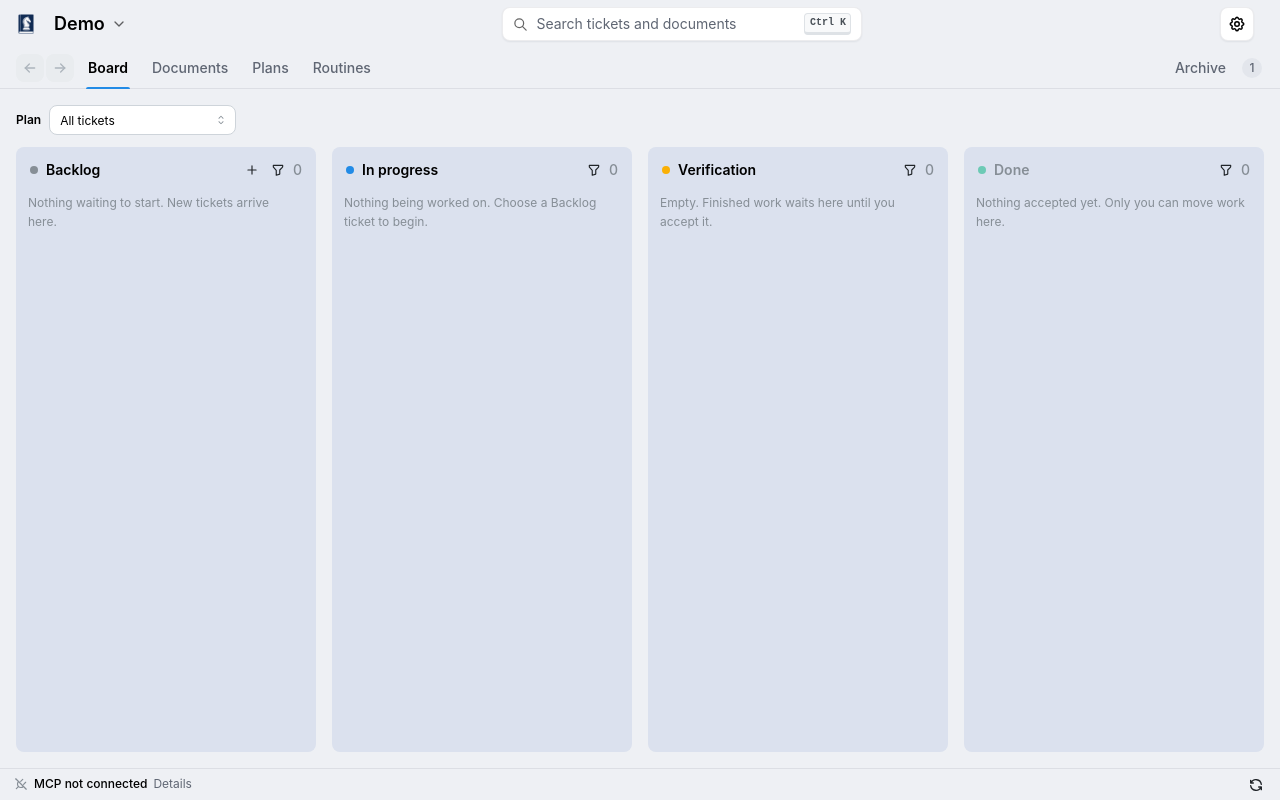
the Archive tab › shows the status each ticket kept, because archiving decided nothing
Expected: the text "Demo" is shown, x1=54 y1=12 x2=105 y2=36
Click the tab "Archive 1". click: (1218, 68)
box: x1=1173 y1=48 x2=1264 y2=88
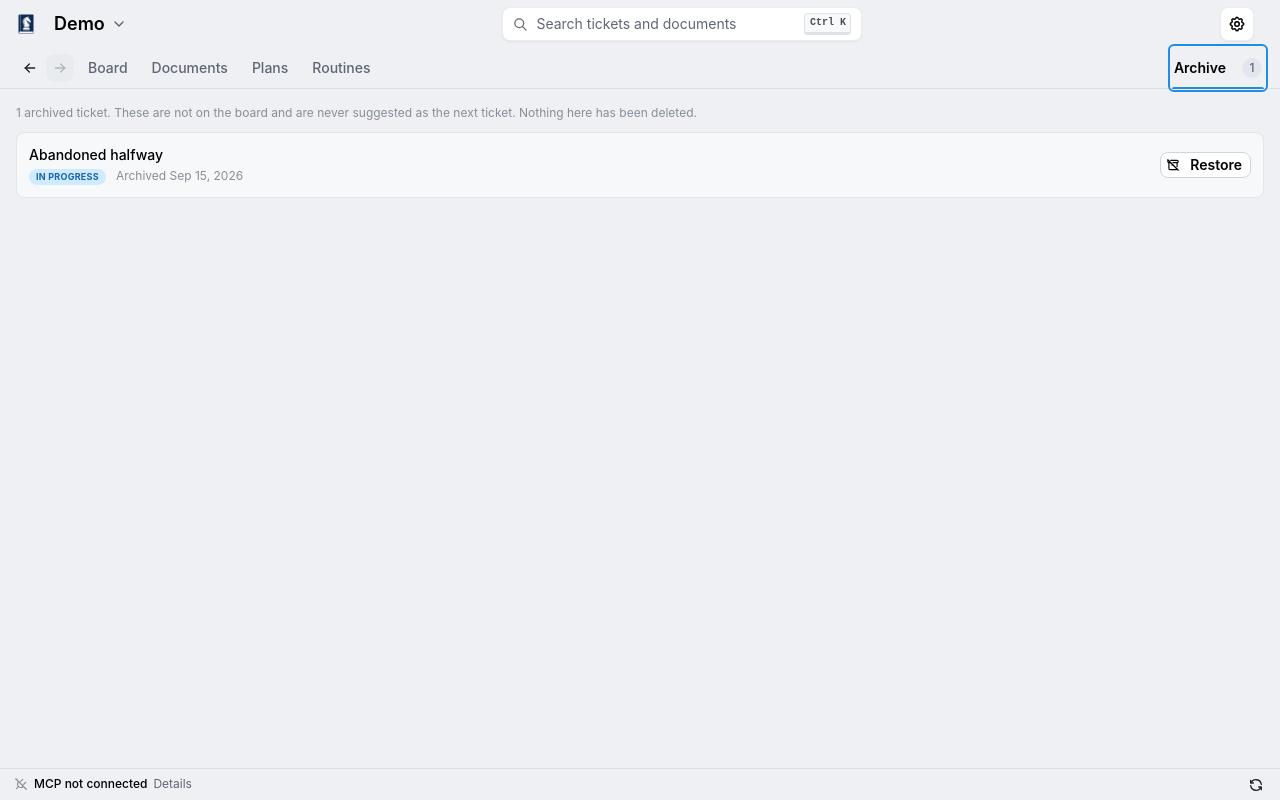
Expected: the text "In progress" is shown, x1=36 y1=170 x2=99 y2=184
Expected: the text "Archived Sep 15, 2026" is shown, x1=116 y1=168 x2=243 y2=185
